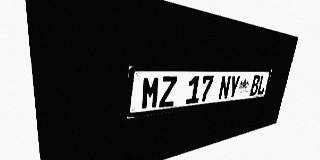1: (185, 76, 202, 104)
7: (199, 76, 214, 103)
B: (249, 75, 261, 96)
L: (256, 75, 267, 95)
M: (140, 76, 161, 110)
N: (218, 75, 231, 100)
Y: (228, 75, 241, 99)
Z: (159, 76, 177, 108)
